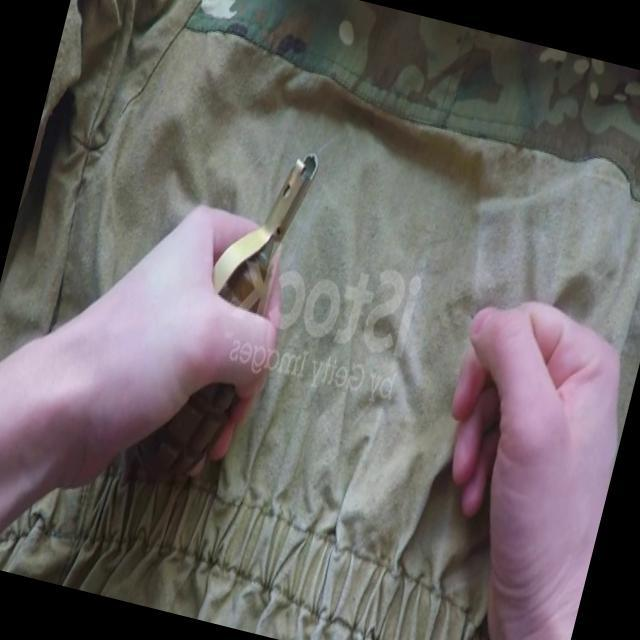grenade: (128, 128, 324, 502)
